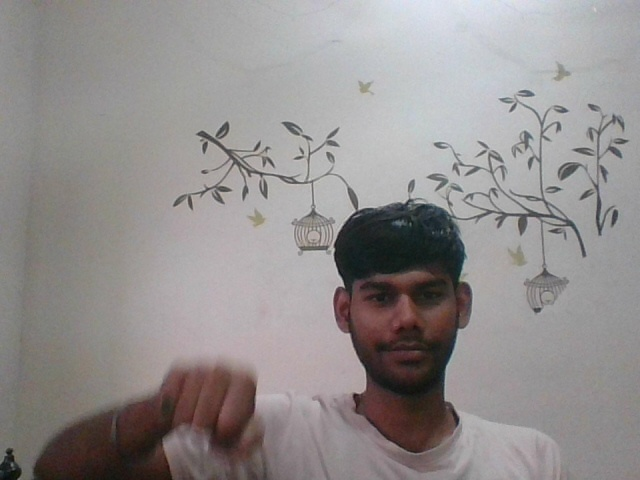Thank You: (152, 347, 270, 462)
